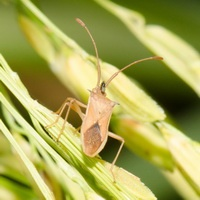insect: (57, 18, 162, 171)
